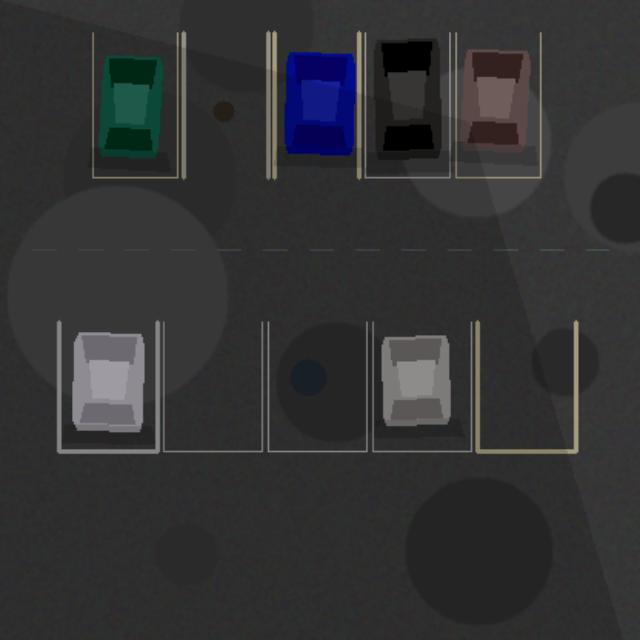space-empty: (163, 322, 262, 451), (268, 322, 366, 451), (477, 322, 575, 451), (183, 32, 268, 177)
space-occupied: (58, 322, 157, 451), (372, 322, 471, 451), (92, 32, 177, 177), (455, 32, 540, 177), (274, 32, 358, 177), (365, 32, 449, 177)
